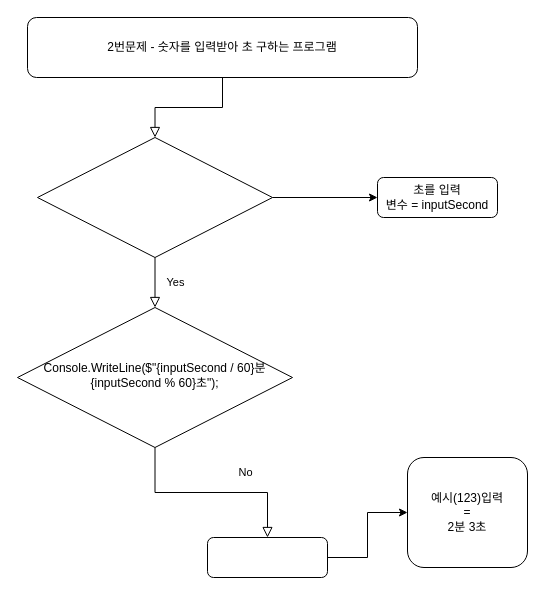
Image size: 545x595. Some labels were removed from this diagram. Here are the shapes that lost their labels. From the top down, the box of each, then its label:
(36, 136, 272, 258): int inputSecond = int.Parse(Console.ReadLine());
(206, 536, 328, 578): 숫자값 출력
